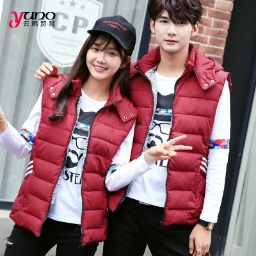face: (147, 1, 204, 55), (76, 32, 130, 84)
